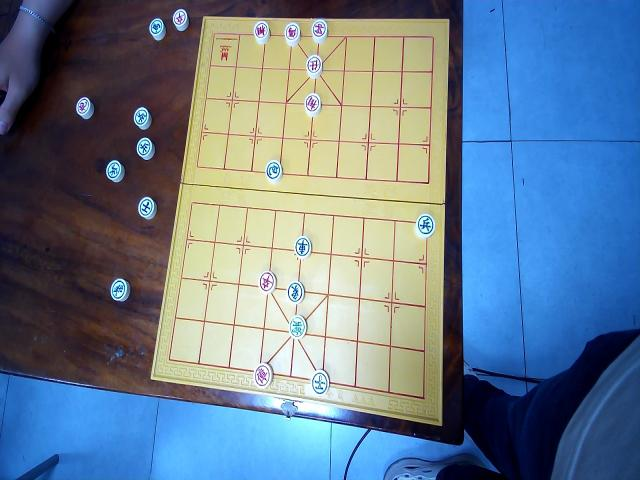piece: (414, 212, 436, 239), (110, 277, 130, 302), (254, 362, 273, 388), (311, 370, 329, 396), (310, 18, 328, 43), (136, 136, 154, 161), (265, 159, 283, 184), (133, 105, 151, 130), (304, 92, 322, 117), (172, 7, 190, 32), (293, 235, 311, 260), (105, 160, 123, 184), (76, 96, 94, 120), (138, 196, 156, 220), (148, 17, 166, 41), (288, 315, 306, 339), (253, 20, 270, 45), (284, 21, 300, 47), (258, 271, 276, 294), (286, 281, 304, 304), (306, 53, 322, 78)
